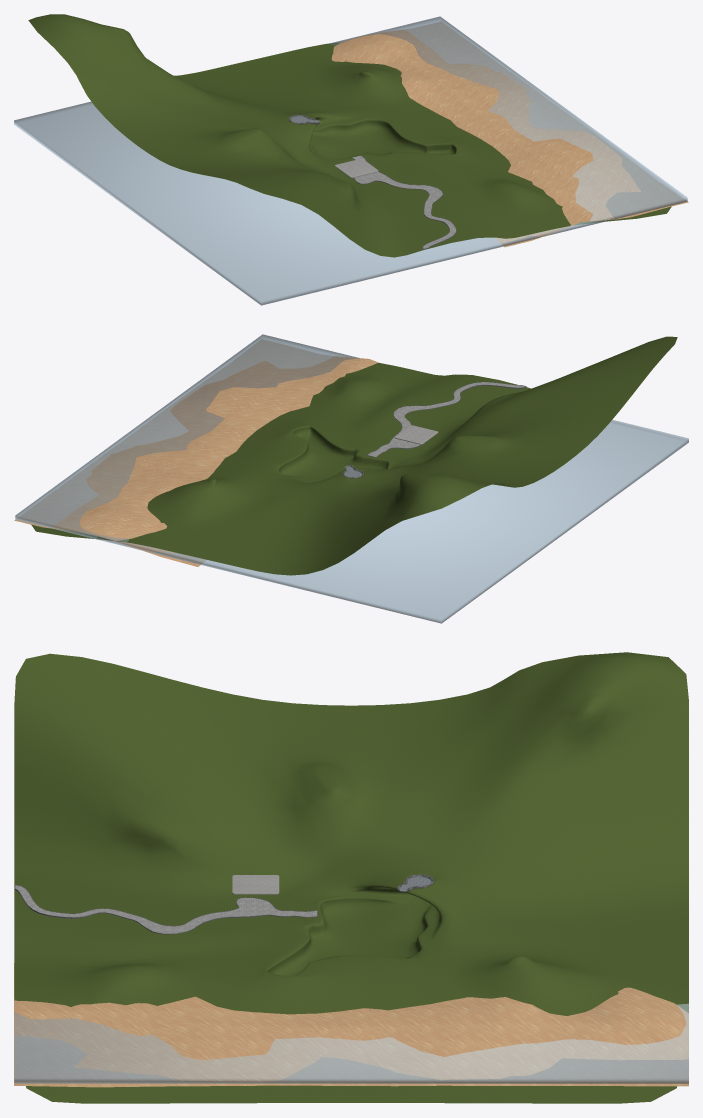
Rendered from Terrain.glb.
3 views of the same model, one above another, from view 1: azimuth 30°, elevation 25°; view 2: azimuth 150°, elevation 25°; view 3: azimuth 270°, elevation 25° (orthographic). The views are drawn at different scales.
Visible parts, largest first — view 1: baseGround, water, sand, Path, Terrace Floor.001; view 2: baseGround, water, sand, Path, Terrace Floor.001; view 3: baseGround, sand, water, Path, Terrace Floor.001.
Boxes of the visible parts, x1,y1,x2,y2 form: baseGround: (28, 14, 671, 257); water: (14, 16, 687, 305); sand: (331, 22, 688, 247); Path: (352, 155, 456, 249); Terrace Floor.001: (335, 158, 378, 178); baseGround: (31, 336, 677, 575); water: (15, 334, 688, 623); sand: (14, 339, 378, 566); Path: (367, 382, 526, 457); Terrace Floor.001: (394, 425, 438, 444); baseGround: (14, 652, 688, 1103); sand: (14, 963, 688, 1087); water: (14, 999, 688, 1083); Path: (14, 885, 317, 934); Terrace Floor.001: (232, 875, 279, 894).
Size of what is drawn, in the model's own units: 319 by 93.42 by 320.
Materials: 8 (6 with a texture image).
